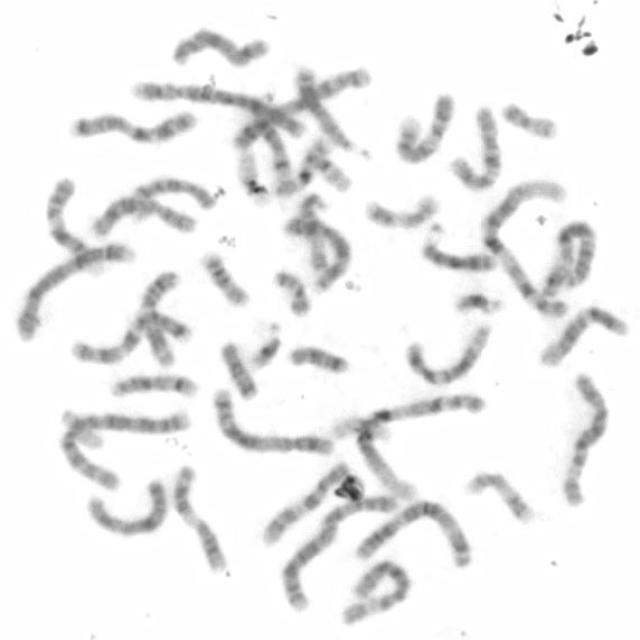A1: (351, 386, 489, 501), (477, 174, 574, 317)
A2: (276, 491, 403, 615), (55, 404, 193, 492)
A3: (347, 496, 475, 570), (534, 216, 600, 300)
B4: (9, 237, 138, 345), (124, 76, 316, 137)
B5: (225, 61, 376, 149), (206, 383, 338, 458)
C10: (256, 456, 357, 550), (445, 101, 505, 192)
C11: (168, 458, 230, 575), (136, 265, 182, 368)
C12: (532, 301, 632, 369), (400, 318, 494, 387)
C6: (556, 367, 613, 510), (334, 554, 413, 628)
C7: (65, 307, 195, 366), (65, 104, 201, 146)
C8: (279, 218, 351, 292), (123, 173, 213, 213)
C9: (40, 173, 106, 281), (389, 88, 458, 167)
D13: (291, 63, 372, 159), (418, 219, 499, 274)
D14: (246, 86, 293, 200), (104, 369, 200, 401)
D15: (164, 22, 271, 70), (293, 187, 330, 274)
E16: (270, 130, 334, 198), (196, 246, 252, 310)
E17: (460, 465, 538, 528), (359, 189, 441, 230)
E18: (216, 336, 262, 400), (283, 339, 351, 377)
F19: (232, 142, 273, 206), (327, 412, 394, 444)
F20: (496, 96, 562, 142), (268, 264, 314, 318)
G21: (243, 316, 284, 372), (448, 287, 506, 318)
G22: (54, 403, 107, 450), (306, 143, 354, 194)
X: (81, 472, 171, 540), (85, 191, 198, 238)
